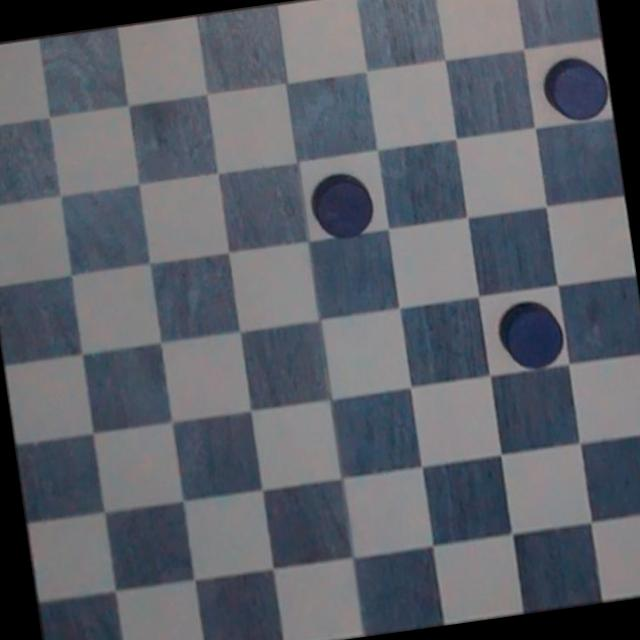BOARD: (0, 0, 640, 640)
black: (483, 294, 575, 383), (302, 159, 383, 244), (536, 45, 614, 126)
